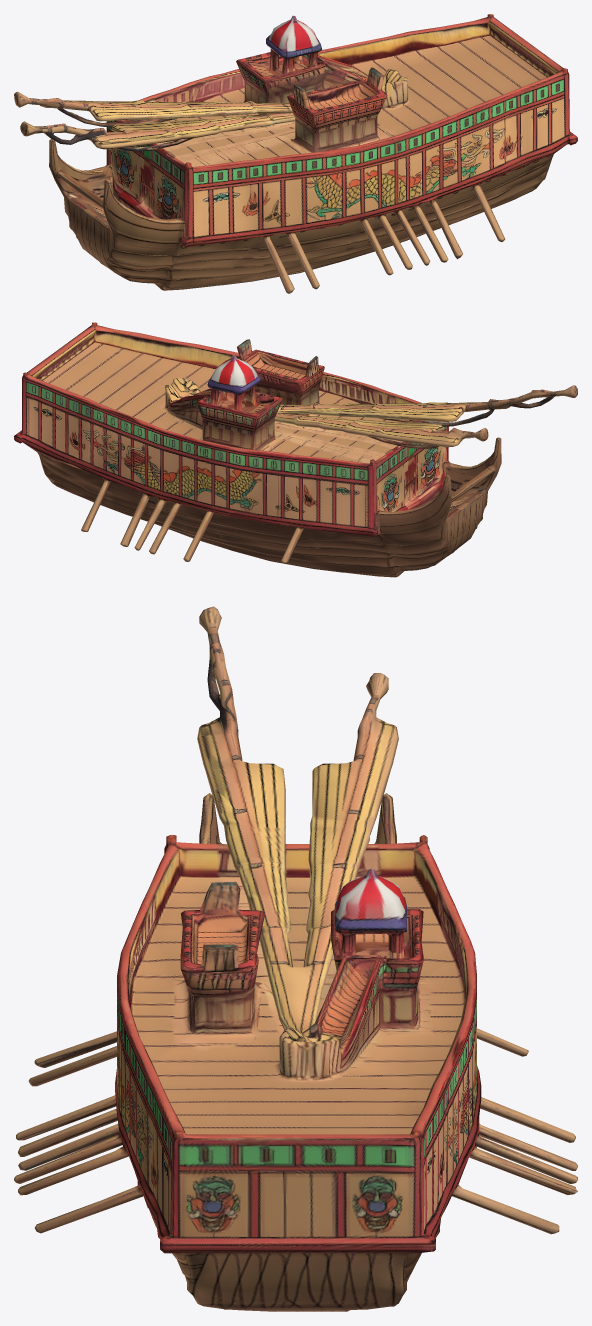
The model's file is PanOgSeon01.fbx.
3 renders of one model, top to bottom at view 1: azimuth 30°, elevation 25°; view 2: azimuth 150°, elevation 25°; view 3: azimuth 270°, elevation 25°, orthographic. The views are drawn at different scales.
Parts seen in each view (by area): view 1: Mesh_0; view 2: Mesh_0; view 3: Mesh_0.
Part boxes in pixels (left/top/right/bottom): Mesh_0: left=14, top=14, right=577, bottom=293; Mesh_0: left=14, top=322, right=577, bottom=577; Mesh_0: left=14, top=606, right=577, bottom=1311.
Bounding box in the file's own units: 191 × 73.97 × 107.
1 material, 1 textured.
